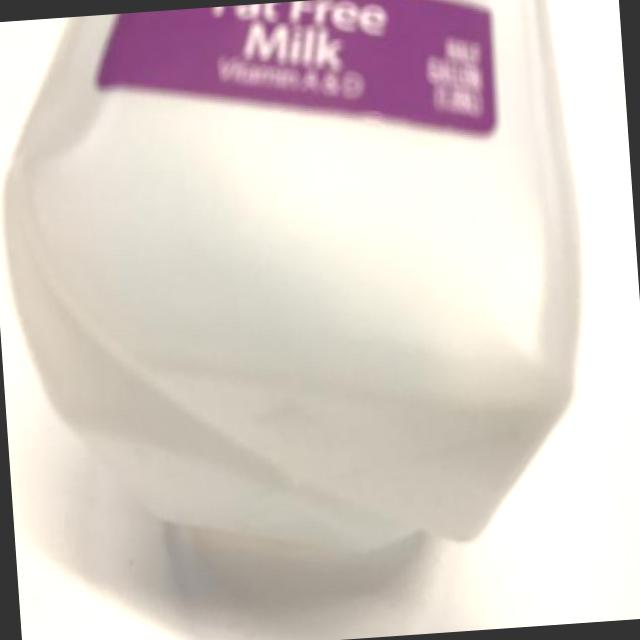Recycle: (0, 0, 612, 629)
